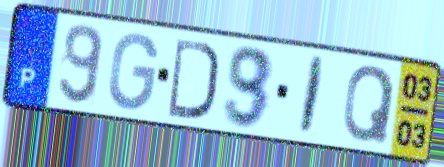9: (221, 44, 278, 132), (57, 22, 104, 108)
D: (166, 35, 220, 123)
G: (106, 30, 161, 113)
I: (296, 53, 329, 139)
Q: (340, 63, 397, 146)
